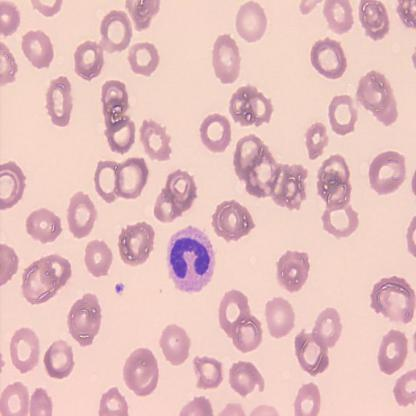Band Neutrophil: (164, 221, 217, 295)
